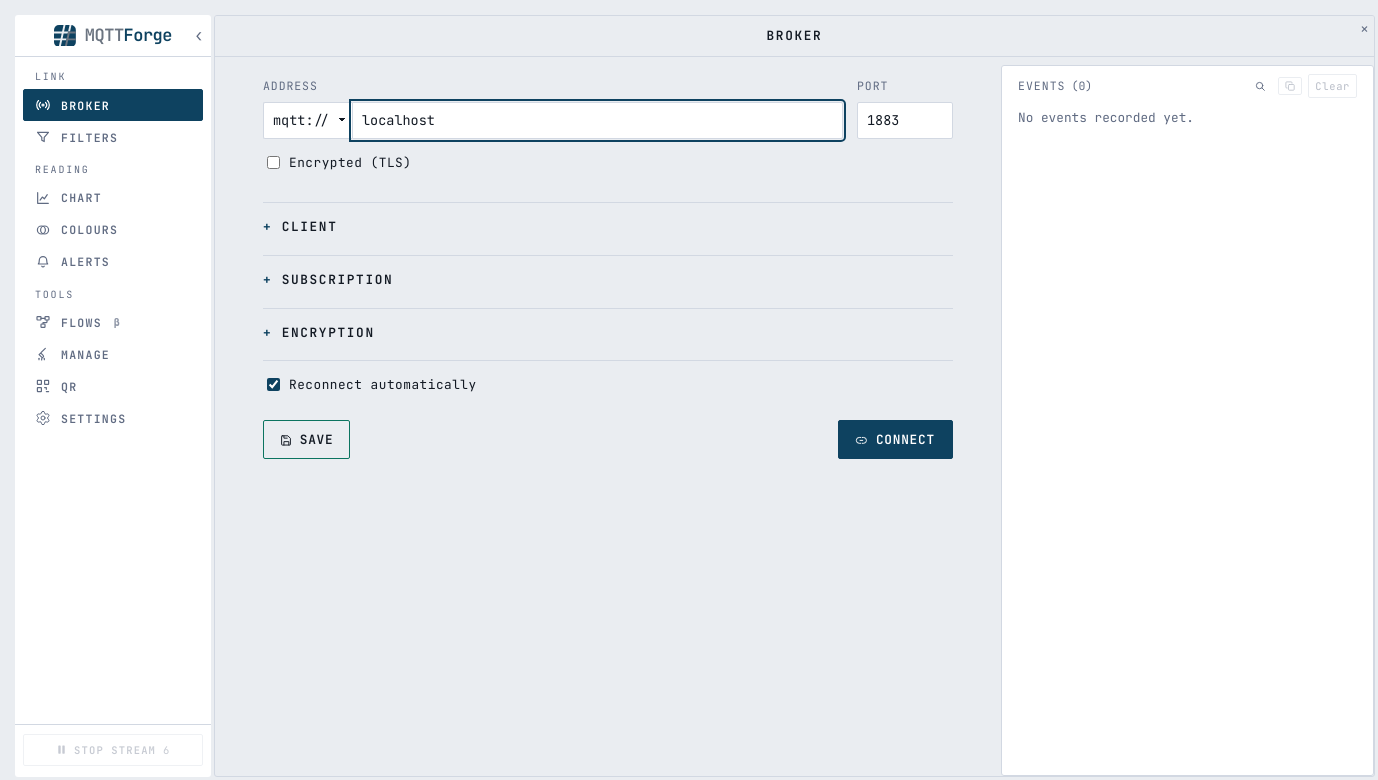
it: every control answers to the word printed on it › holds with the Manage panel open
This screenshot has width=1378, height=780.
Check: the button named "Close Broker panel" is shown, box [1355, 16, 1374, 38]
Click the button "Manage" at (113, 354), box [23, 338, 203, 370]
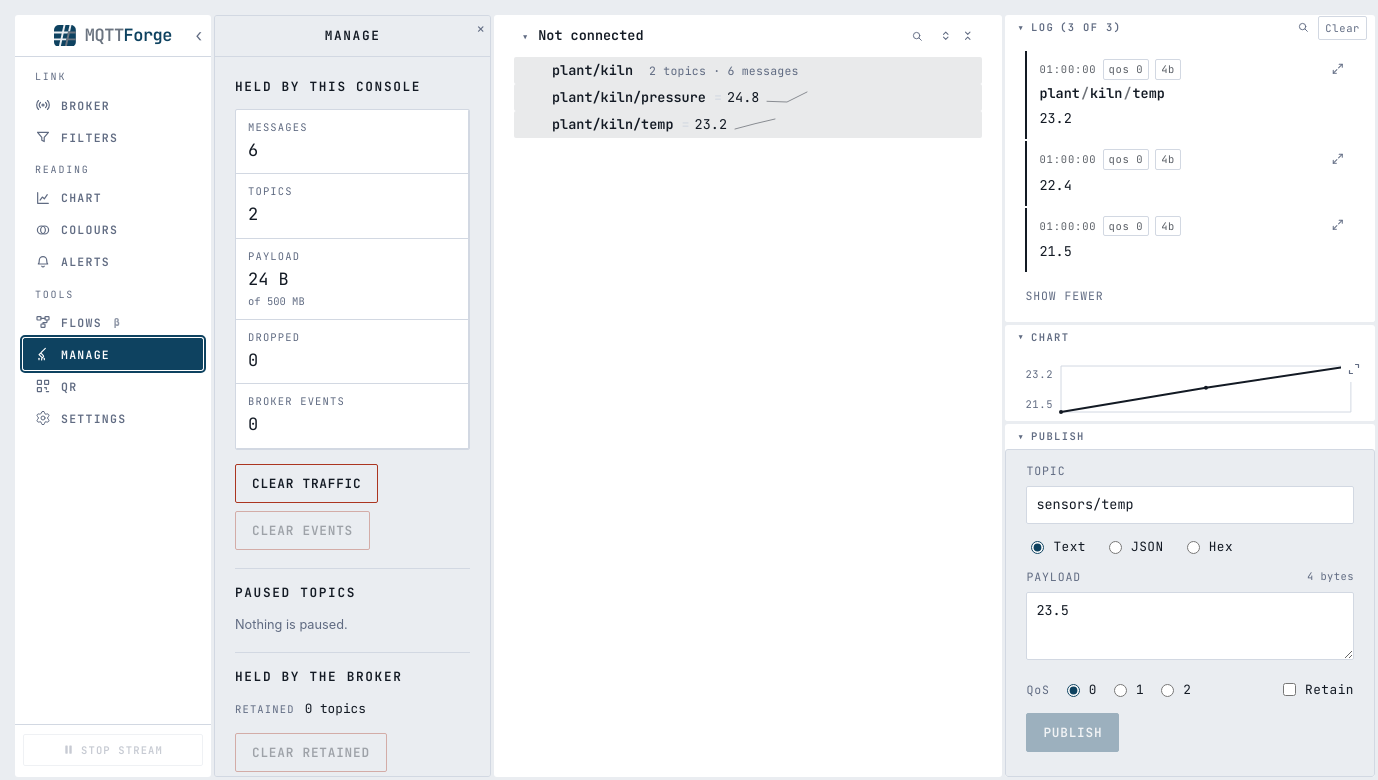
Check: the element named "Manage panel" is shown, box [214, 15, 491, 777]
